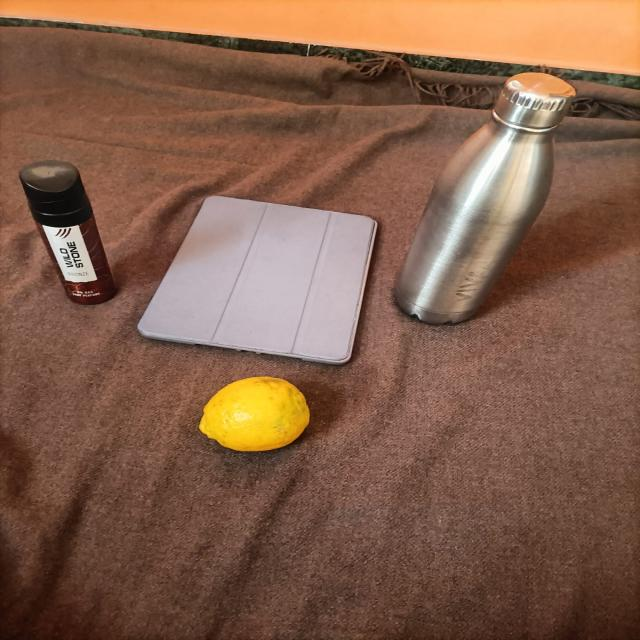bottle: (388, 24, 567, 348)
orange: (183, 375, 321, 463)
spray: (5, 152, 125, 322)
tablet: (135, 166, 385, 375)
